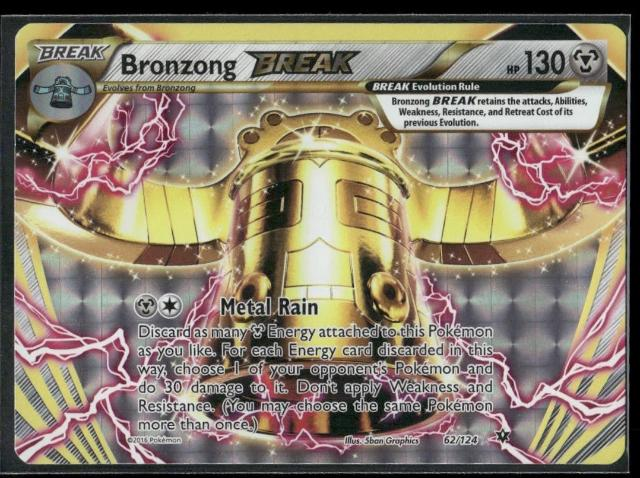Card: (9, 19, 630, 471)
Name: (116, 46, 365, 83)
